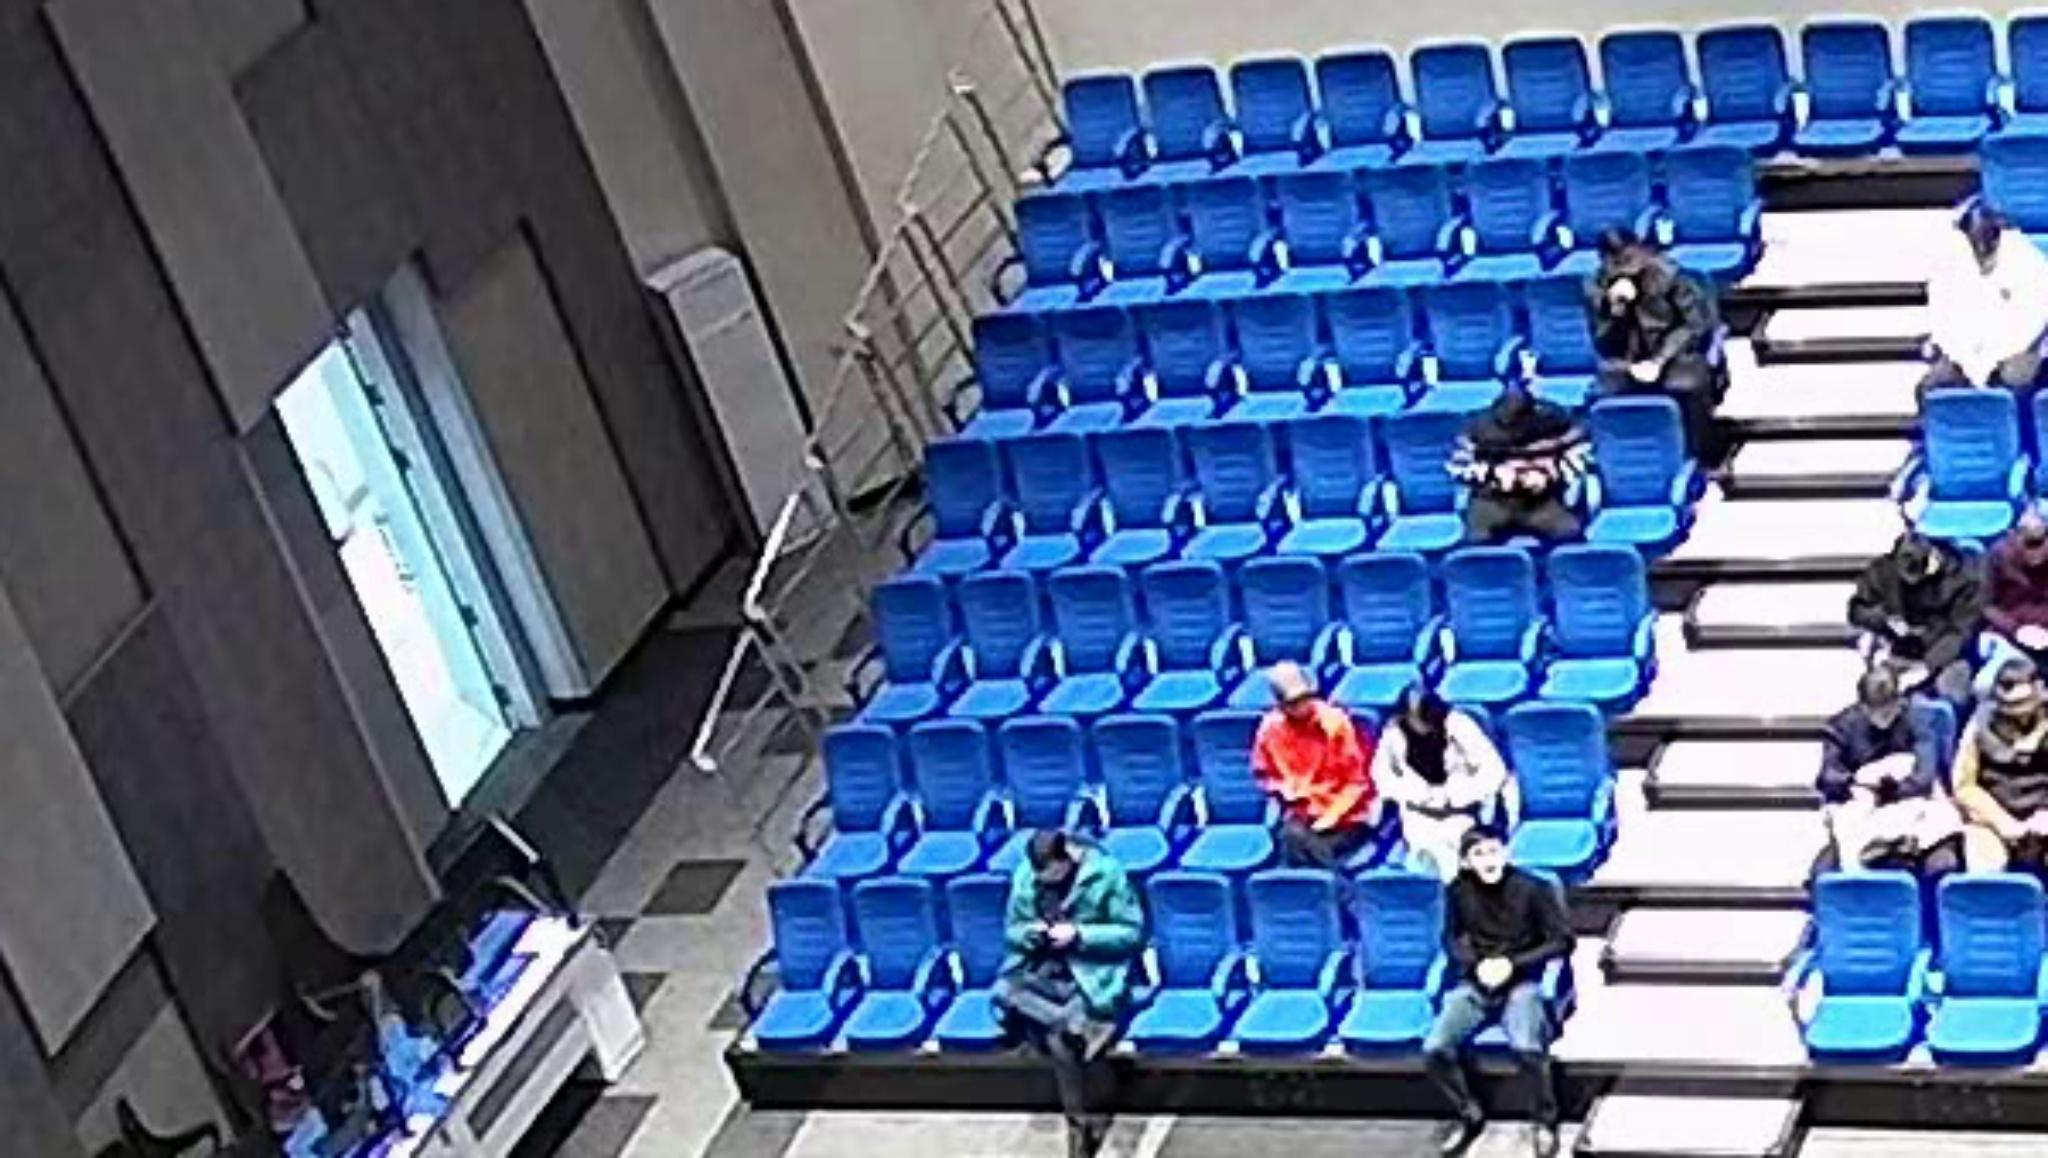empty: (1795, 865, 1927, 1064), (1920, 874, 2047, 1071), (1222, 868, 1345, 1057), (1336, 867, 1454, 1060), (1498, 695, 1618, 872), (1127, 864, 1236, 1054), (1905, 393, 2021, 553), (1533, 549, 1654, 702), (748, 881, 851, 1054), (1582, 393, 1695, 547), (847, 878, 945, 1051), (1080, 712, 1190, 867), (1440, 543, 1546, 701), (1138, 557, 1243, 711), (1336, 549, 1439, 705), (1892, 11, 2000, 158), (1035, 560, 1137, 716), (941, 872, 1030, 1050), (1184, 709, 1279, 871), (1791, 14, 1899, 155), (992, 719, 1087, 878), (1235, 559, 1336, 708), (1656, 134, 1764, 273), (1182, 416, 1288, 554), (897, 720, 994, 871), (1692, 18, 1799, 155), (807, 725, 900, 875), (854, 577, 951, 719), (1090, 425, 1190, 563), (948, 573, 1042, 718), (1377, 409, 1478, 543), (1596, 24, 1701, 152), (1279, 414, 1373, 554), (1499, 31, 1602, 159), (903, 436, 999, 570), (1556, 148, 1656, 273), (1408, 38, 1509, 160), (1311, 45, 1412, 165), (1047, 300, 1135, 436), (956, 308, 1052, 433), (1456, 149, 1557, 267), (1006, 431, 1094, 564), (1141, 294, 1245, 407), (1182, 174, 1284, 287), (1357, 159, 1457, 272), (1227, 53, 1324, 167), (1097, 179, 1196, 290), (1141, 62, 1236, 176), (1231, 287, 1328, 398), (1058, 69, 1152, 183), (1419, 274, 1513, 387), (1267, 165, 1364, 273), (1322, 283, 1418, 393), (1515, 269, 1605, 381), (1013, 189, 1104, 293), (1979, 124, 2048, 236), (2002, 11, 2048, 122)
